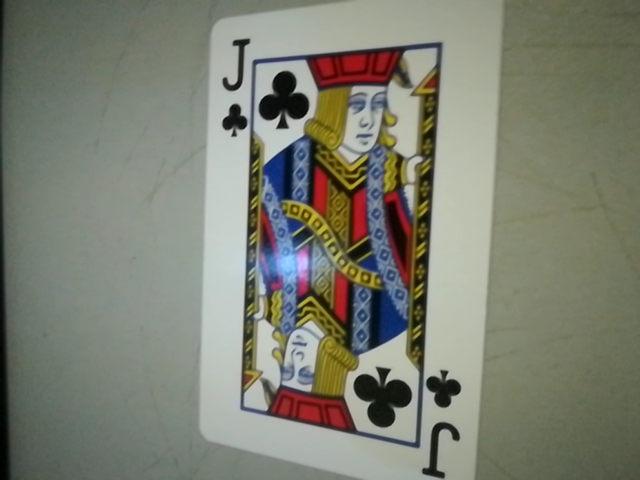mh j: (413, 362, 472, 479)
